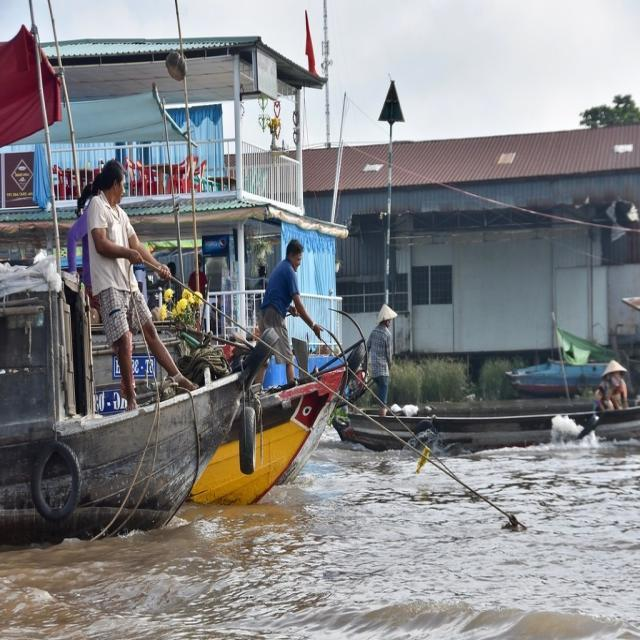boat: (338, 397, 640, 460)
